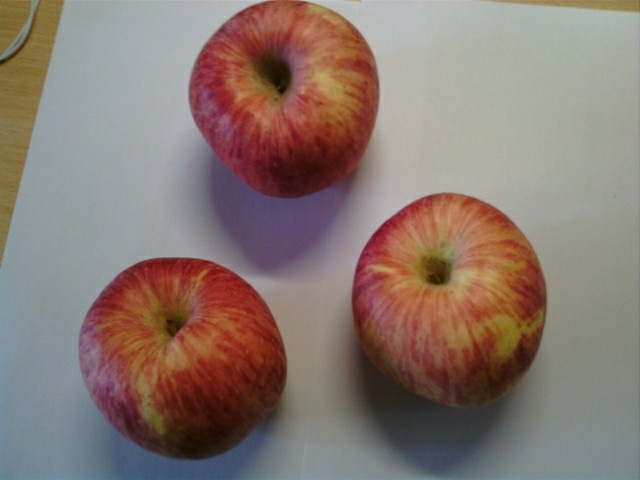normal_apple: (351, 190, 548, 409), (79, 254, 285, 458), (189, 2, 381, 197)
